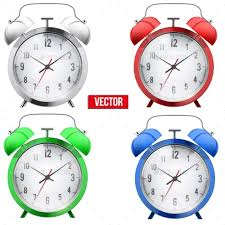alarm_clock: (5, 112, 90, 219)
